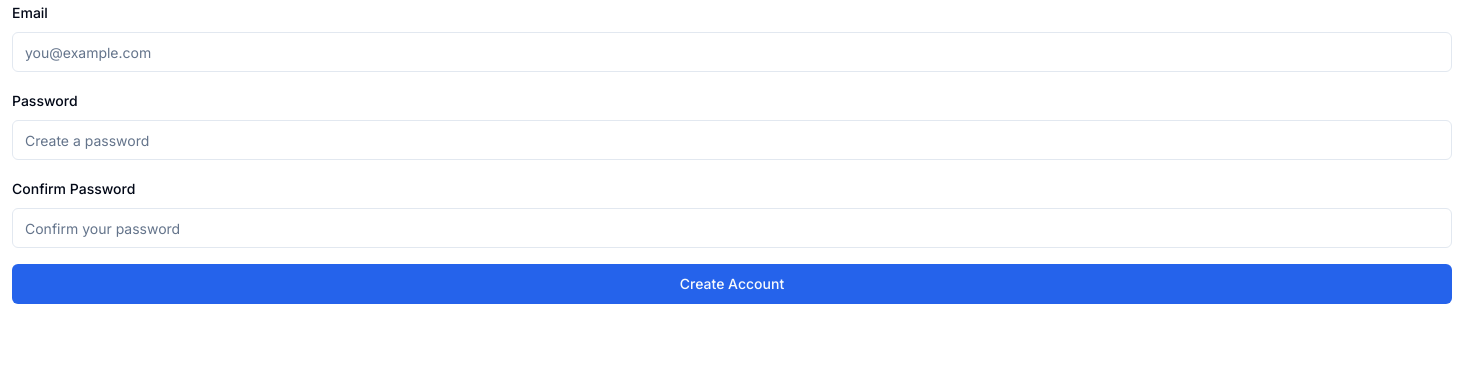
Test: SignupForm › shows server error on failure
Type "test@test.com" into the field with placeholder "you@example.com" at (732, 52), box [12, 32, 1452, 72]
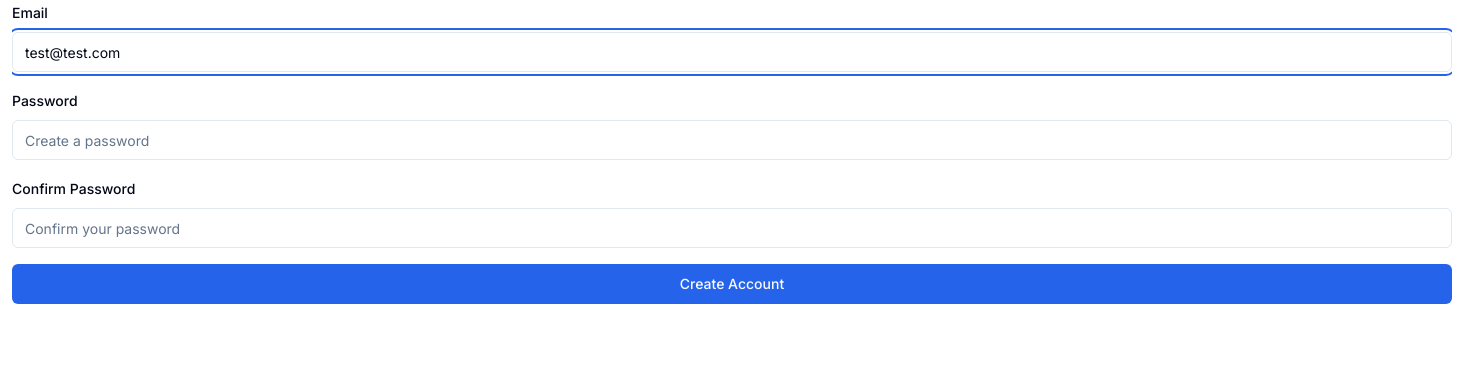
Type "Password1" into the password field with placeholder "Create a password" at (732, 140), box [12, 120, 1452, 160]
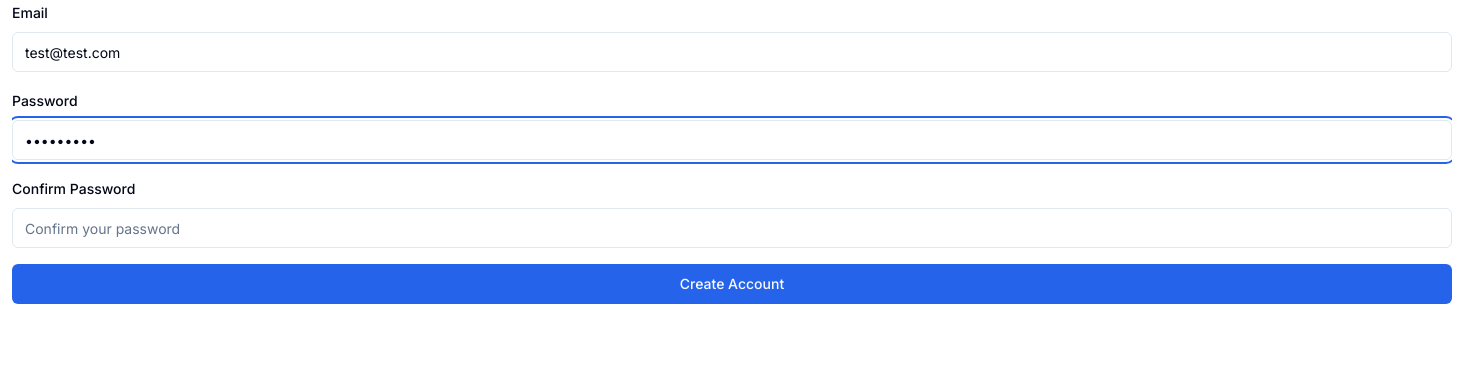
Type "Password1" into the password field with placeholder "Confirm your password" at (732, 228), box [12, 208, 1452, 248]
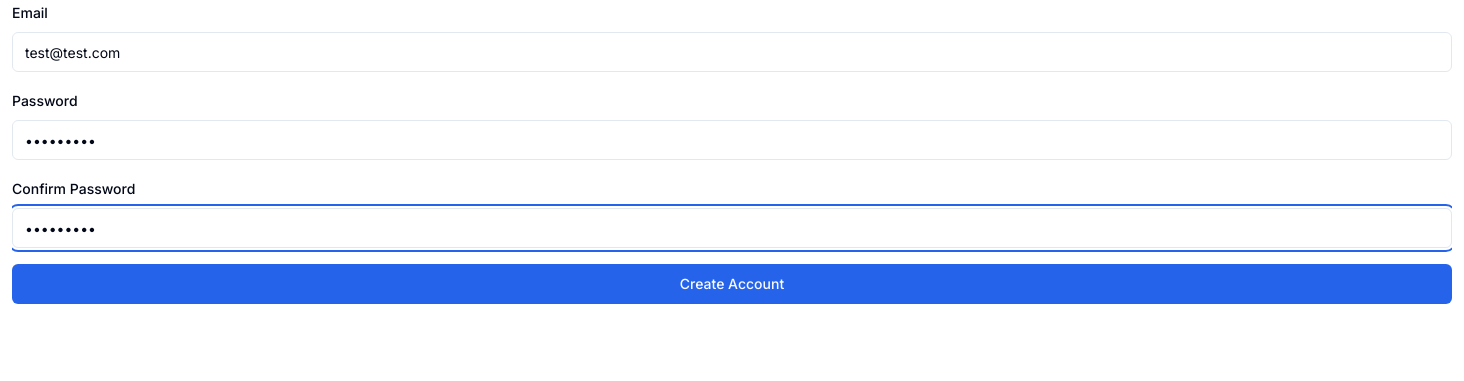
Click the button "Create Account" at (732, 284), box [12, 264, 1452, 304]
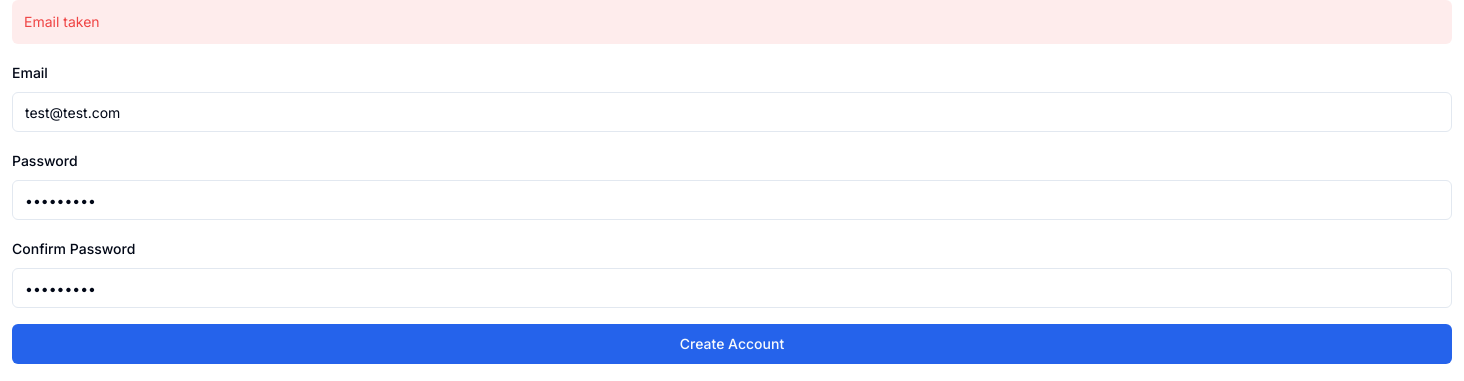
Check: the text "Email taken" is shown, box [12, 0, 1452, 44]
